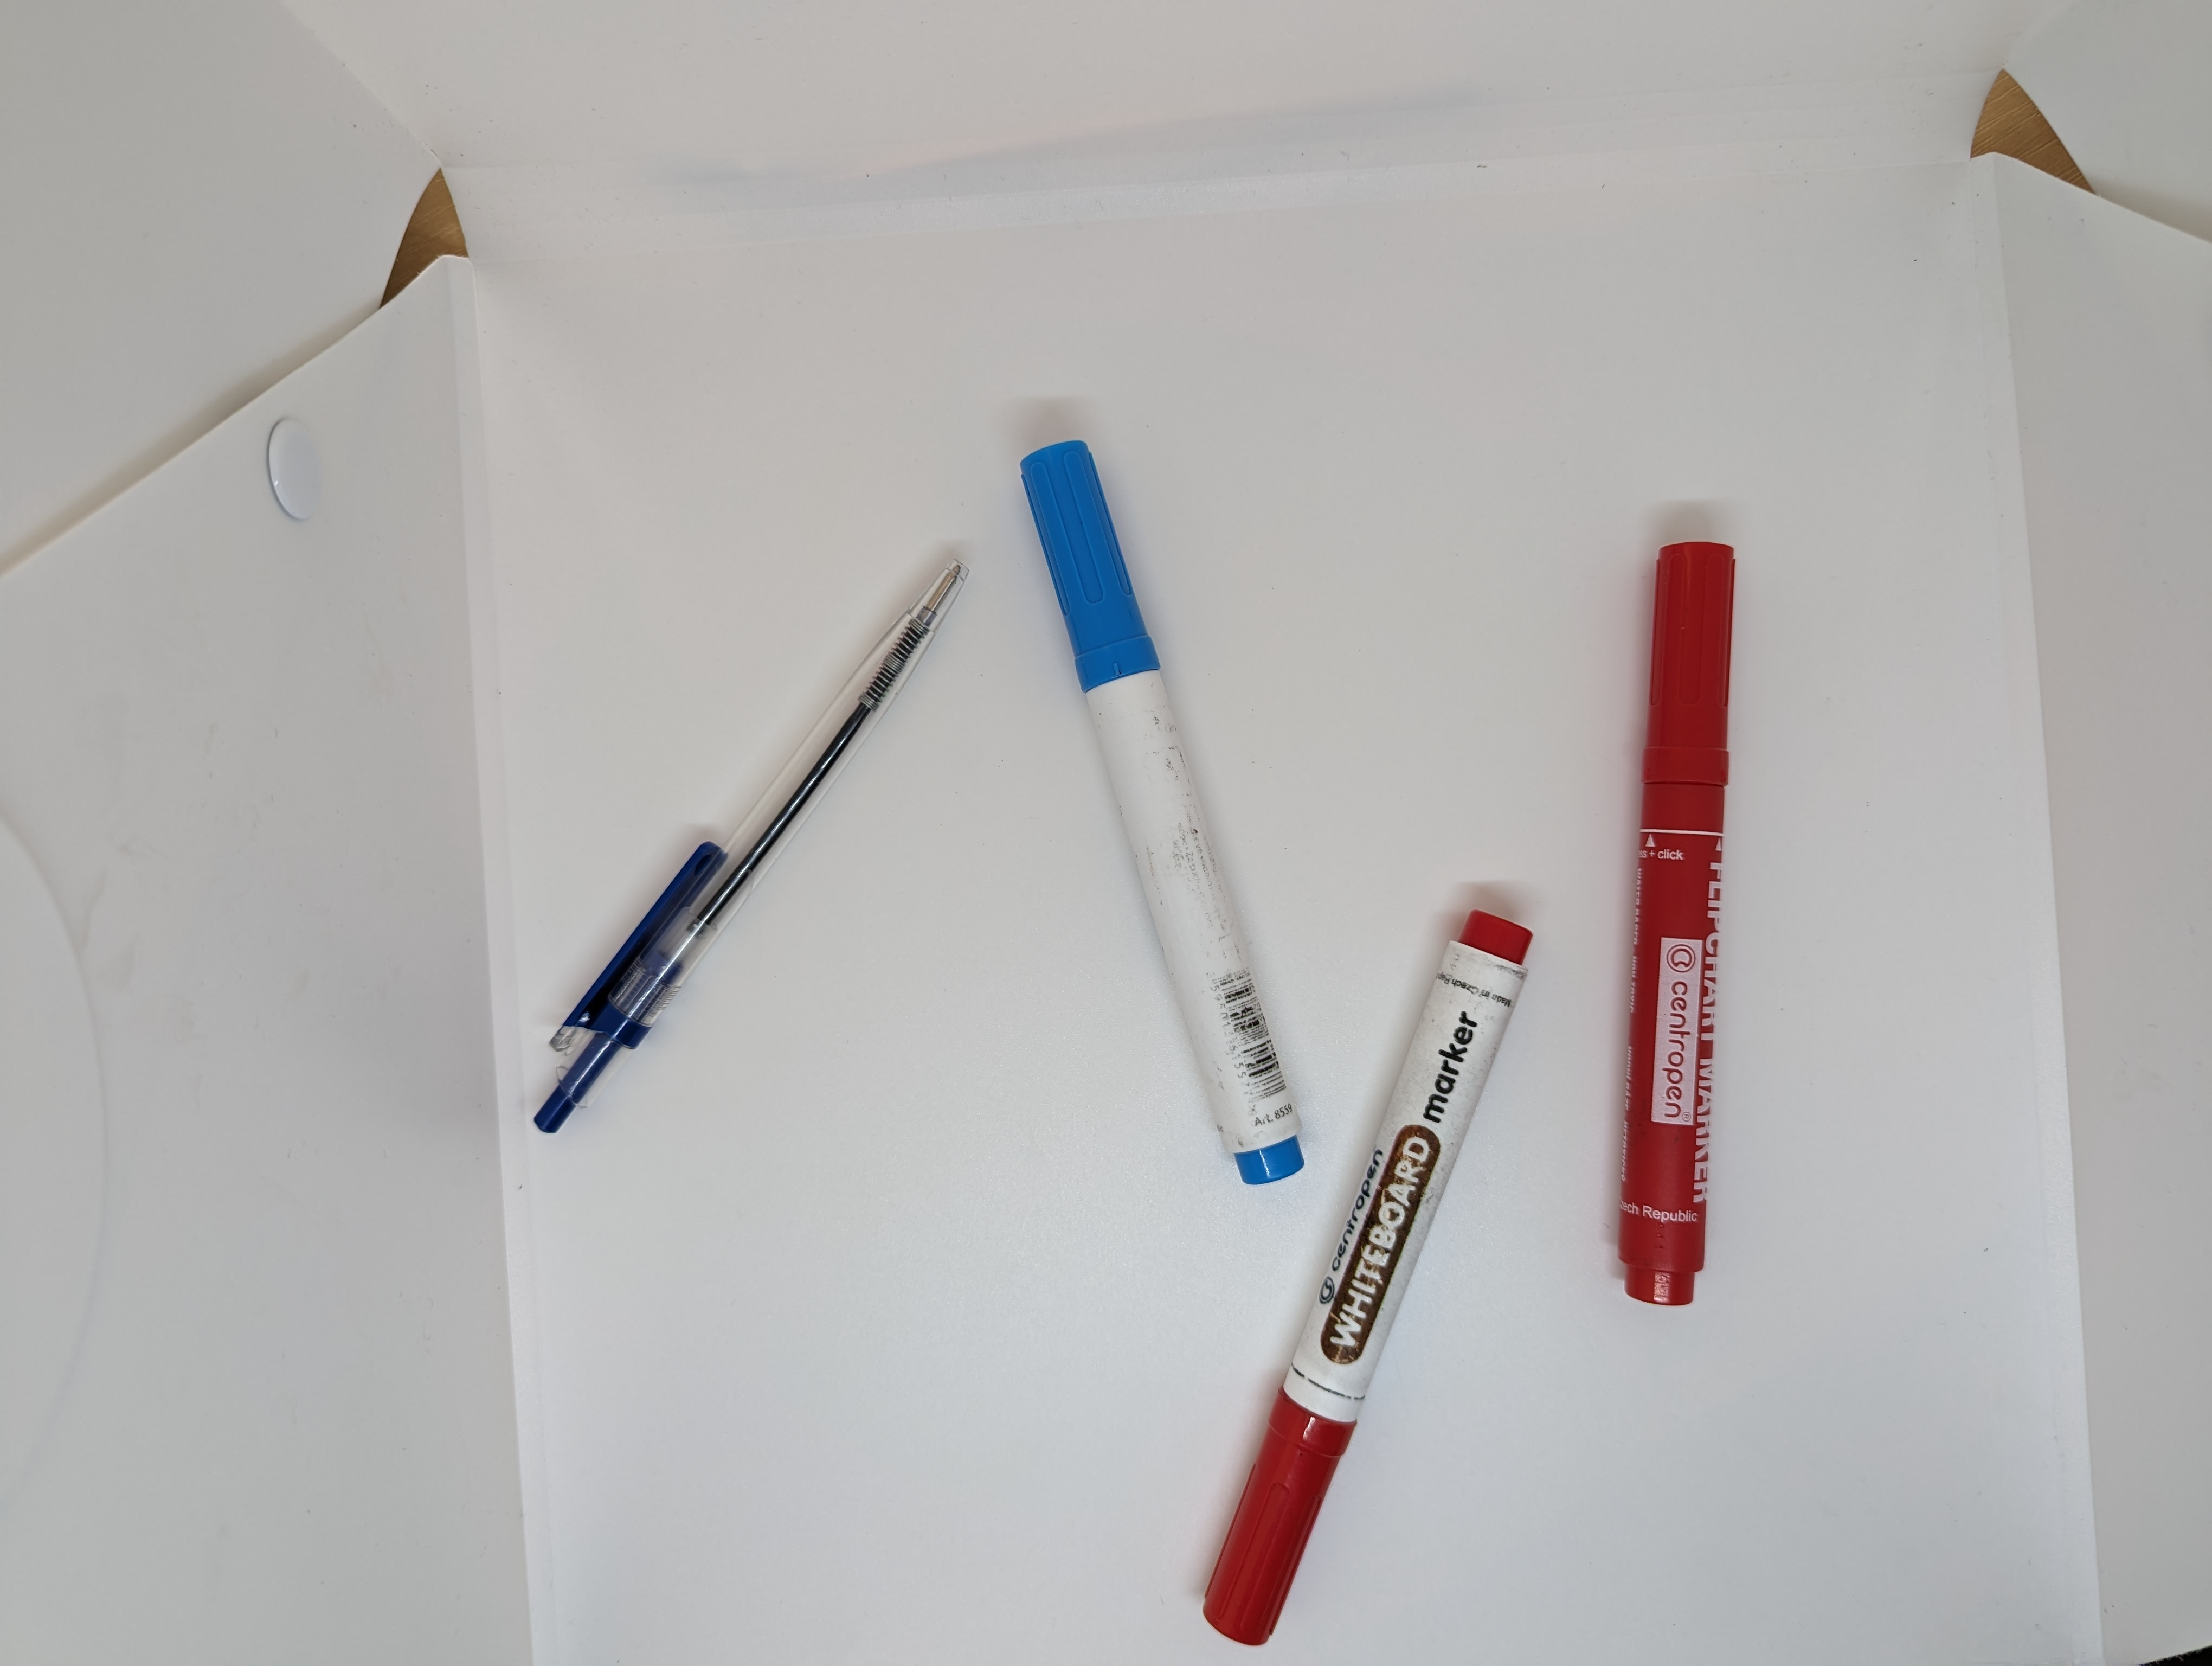blue-stylo: (993, 415, 1325, 1190)
red-red-stylo: (1605, 506, 1750, 1339)
red-stylo: (1096, 878, 1588, 1652)
regular-stylo: (523, 546, 967, 1200)
